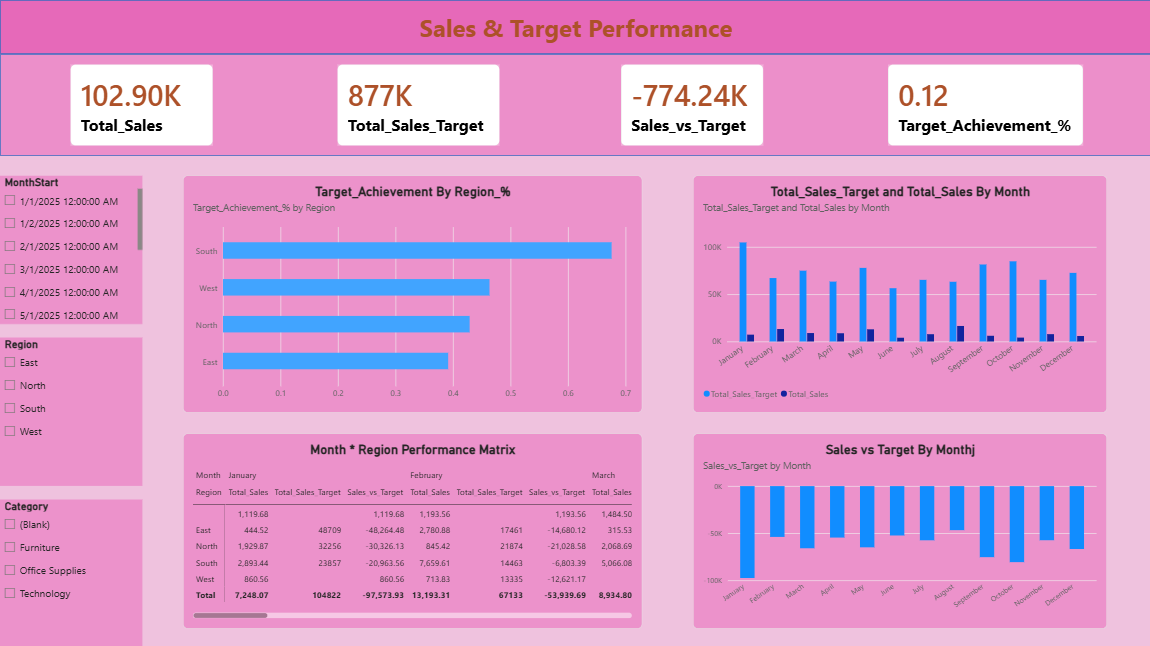

The dashboard page shown, as its layout file describes it:
{"tool":"powerbi","page":{"name":"Sales  & Target Performance","canvas":[1920,1080],"ordinal":1},"visuals":[{"type":"shape","box":[0,0,1920,90],"z":0},{"type":"shape","box":[0,90,1920,170],"z":1000},{"type":"cardVisual","fields":{"Data":["fact_Orders.Total_Sales"]},"box":[117.5,107.5,237.5,135],"z":2000},{"type":"cardVisual","fields":{"Data":["fact_Targets.Total_Sales_Target"]},"box":[562.5,107.5,270,135],"z":3000},{"type":"cardVisual","fields":{"Data":["fact_Targets.Target_Achievement_%"]},"box":[1480,107.5,325,135],"z":4000},{"type":"cardVisual","fields":{"Data":["fact_Orders.Sales_vs_Target"]},"box":[1035,107.5,237.5,135],"z":5000},{"type":"clusteredColumnChart","title":"Total_Sales_Target and Total_Sales By Month","fields":{"Category":["dim_Month.MonthStart.Variation.Date Hierarchy.Month"],"Y":["fact_Targets.Total_Sales_Target","fact_Orders.Total_Sales"]},"box":[1155,292.5,690,395],"z":6000},{"type":"clusteredBarChart","title":"Target_Achievement By Region_%","fields":{"Category":["fact_Targets.Region"],"Y":["fact_Targets.Target_Achievement_%"]},"box":[305,292.5,765,395],"z":7000},{"type":"clusteredColumnChart","title":"Sales vs Target By Monthj","fields":{"Category":["dim_Month.MonthStart.Variation.Date Hierarchy.Month"],"Y":["fact_Orders.Sales_vs_Target"]},"box":[1155,722.5,690,325],"z":8000},{"type":"pivotTable","title":"Month * Region Performance Matrix","fields":{"Columns":["dim_Month.MonthStart.Variation.Date Hierarchy.Month"],"Rows":["dim_Region.Region"],"Values":["fact_Orders.Total_Sales","fact_Targets.Total_Sales_Target","fact_Orders.Sales_vs_Target"]},"box":[305,722.5,765,325],"z":9000},{"type":"slicer","title":"Target_Achievement By Region_%","fields":{"Values":["dim_Month.MonthStart"]},"box":[0,292.5,237.5,247.5],"z":9001},{"type":"slicer","title":"Target_Achievement By Region_%","fields":{"Values":["fact_Targets.Region"]},"box":[0,562.5,237.5,247.5],"z":9002},{"type":"slicer","title":"Target_Achievement By Region_%","fields":{"Values":["dim_Products.Category"]},"box":[0,832.5,237.5,247.5],"z":9003}]}

Visuals, with their boxes in screenshot pixels (x1, y1, x2, y2), scaled from the page's 1920x1080 canvas onto the 1150x646 screenshot:
shape: left=0, top=0, right=1149, bottom=54
shape: left=0, top=54, right=1149, bottom=156
cardVisual - fact_Orders.Total_Sales: left=70, top=64, right=213, bottom=145
cardVisual - fact_Targets.Total_Sales_Target: left=337, top=64, right=499, bottom=145
cardVisual - fact_Targets.Target_Achievement_%: left=886, top=64, right=1081, bottom=145
cardVisual - fact_Orders.Sales_vs_Target: left=620, top=64, right=762, bottom=145
"Total_Sales_Target and Total_Sales By Month" clusteredColumnChart: left=692, top=175, right=1105, bottom=411
"Target_Achievement By Region_%" clusteredBarChart: left=183, top=175, right=641, bottom=411
"Sales vs Target By Monthj" clusteredColumnChart: left=692, top=432, right=1105, bottom=627
"Month * Region Performance Matrix" pivotTable: left=183, top=432, right=641, bottom=627
"Target_Achievement By Region_%" slicer: left=0, top=175, right=142, bottom=323
"Target_Achievement By Region_%" slicer: left=0, top=336, right=142, bottom=484
"Target_Achievement By Region_%" slicer: left=0, top=498, right=142, bottom=645
